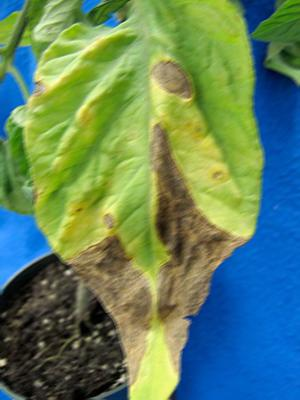Tomato leaf late blight: (18, 2, 264, 400)
